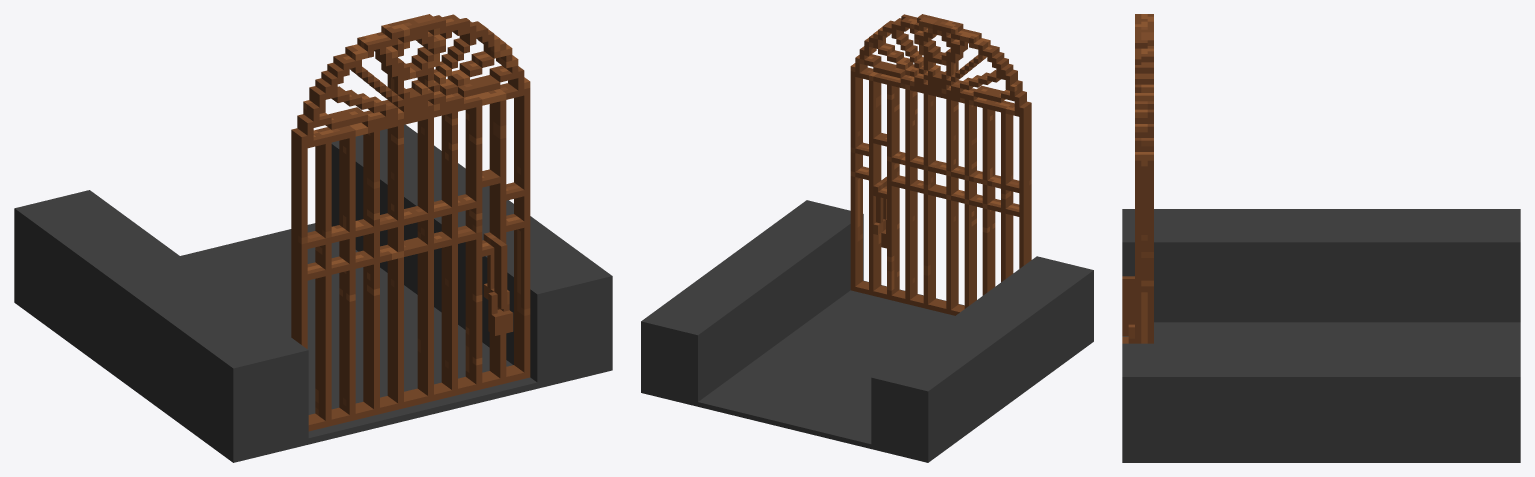
Rendered from door-3.obj.
3 views of the same model, side by side, from view 1: azimuth 30°, elevation 25°; view 2: azimuth 150°, elevation 25°; view 3: azimuth 270°, elevation 25° (orthographic). The views are drawn at different scales.
Visible parts, largest first — view 1: door-3; view 2: door-3; view 3: door-3.
Boxes of the visible parts, x1=… form: door-3: x1=14, y1=14, x2=612, y2=462; door-3: x1=641, y1=14, x2=1093, y2=462; door-3: x1=1122, y1=14, x2=1520, y2=462.
Bounding box in the file's own units: 126 × 122 × 126.
1 material, 1 textured.
